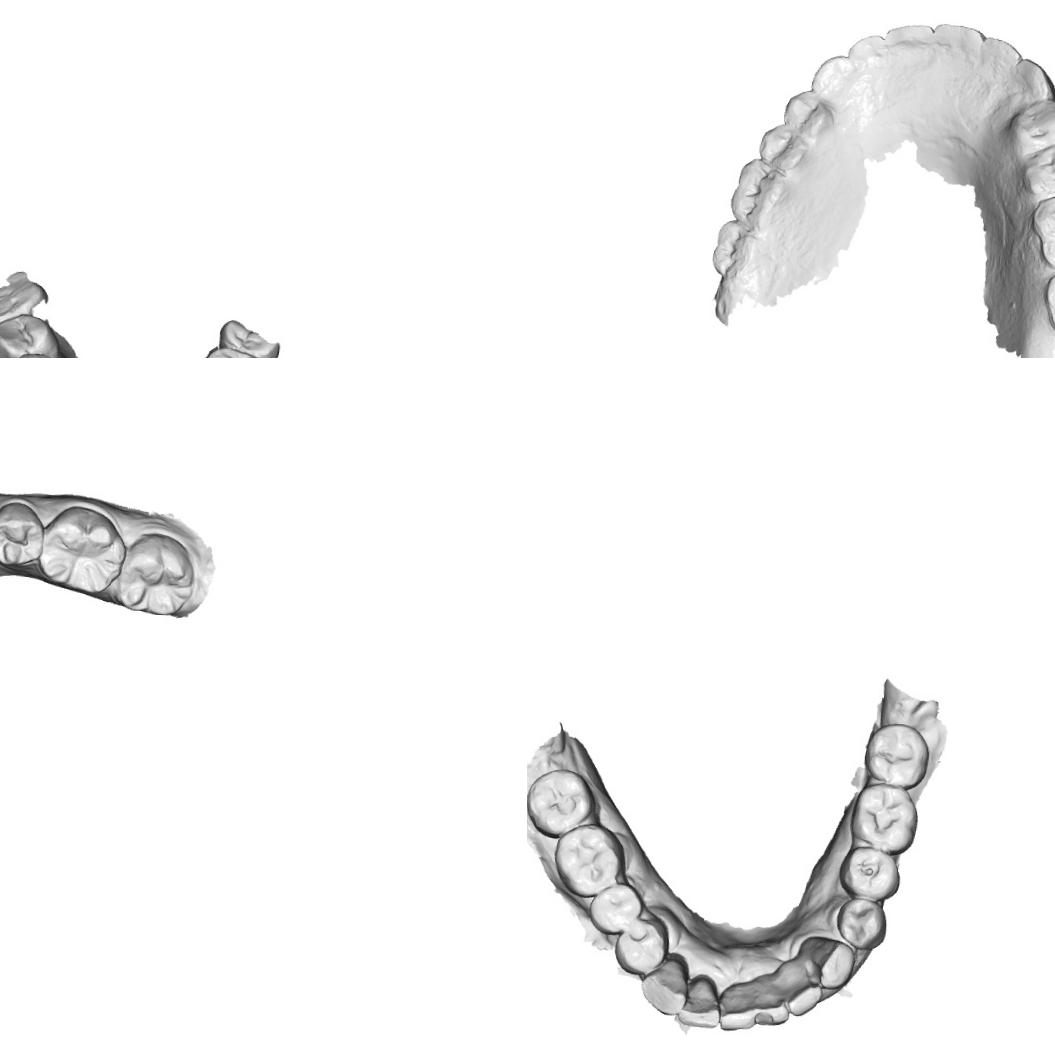canine: (637, 949, 691, 1017), (798, 934, 858, 990), (808, 52, 862, 106), (1011, 55, 1055, 102)
incisor: (676, 971, 722, 1030), (779, 969, 825, 1019), (714, 983, 760, 1032), (750, 980, 792, 1030), (882, 19, 934, 59), (932, 19, 986, 55), (978, 32, 1023, 74), (845, 32, 885, 74)
molar: (36, 502, 128, 595), (109, 528, 196, 618), (551, 820, 627, 899), (848, 781, 921, 854), (527, 764, 596, 837), (860, 720, 932, 788), (724, 154, 791, 222), (706, 216, 772, 281), (0, 266, 50, 336), (1026, 185, 1055, 273)
premolar: (835, 844, 904, 902), (613, 916, 668, 980), (1003, 92, 1055, 157), (585, 878, 644, 935), (0, 498, 46, 567), (834, 897, 889, 952), (780, 88, 837, 141), (756, 121, 810, 172), (216, 317, 281, 358), (1018, 137, 1055, 202), (0, 317, 56, 358), (195, 345, 265, 358)
